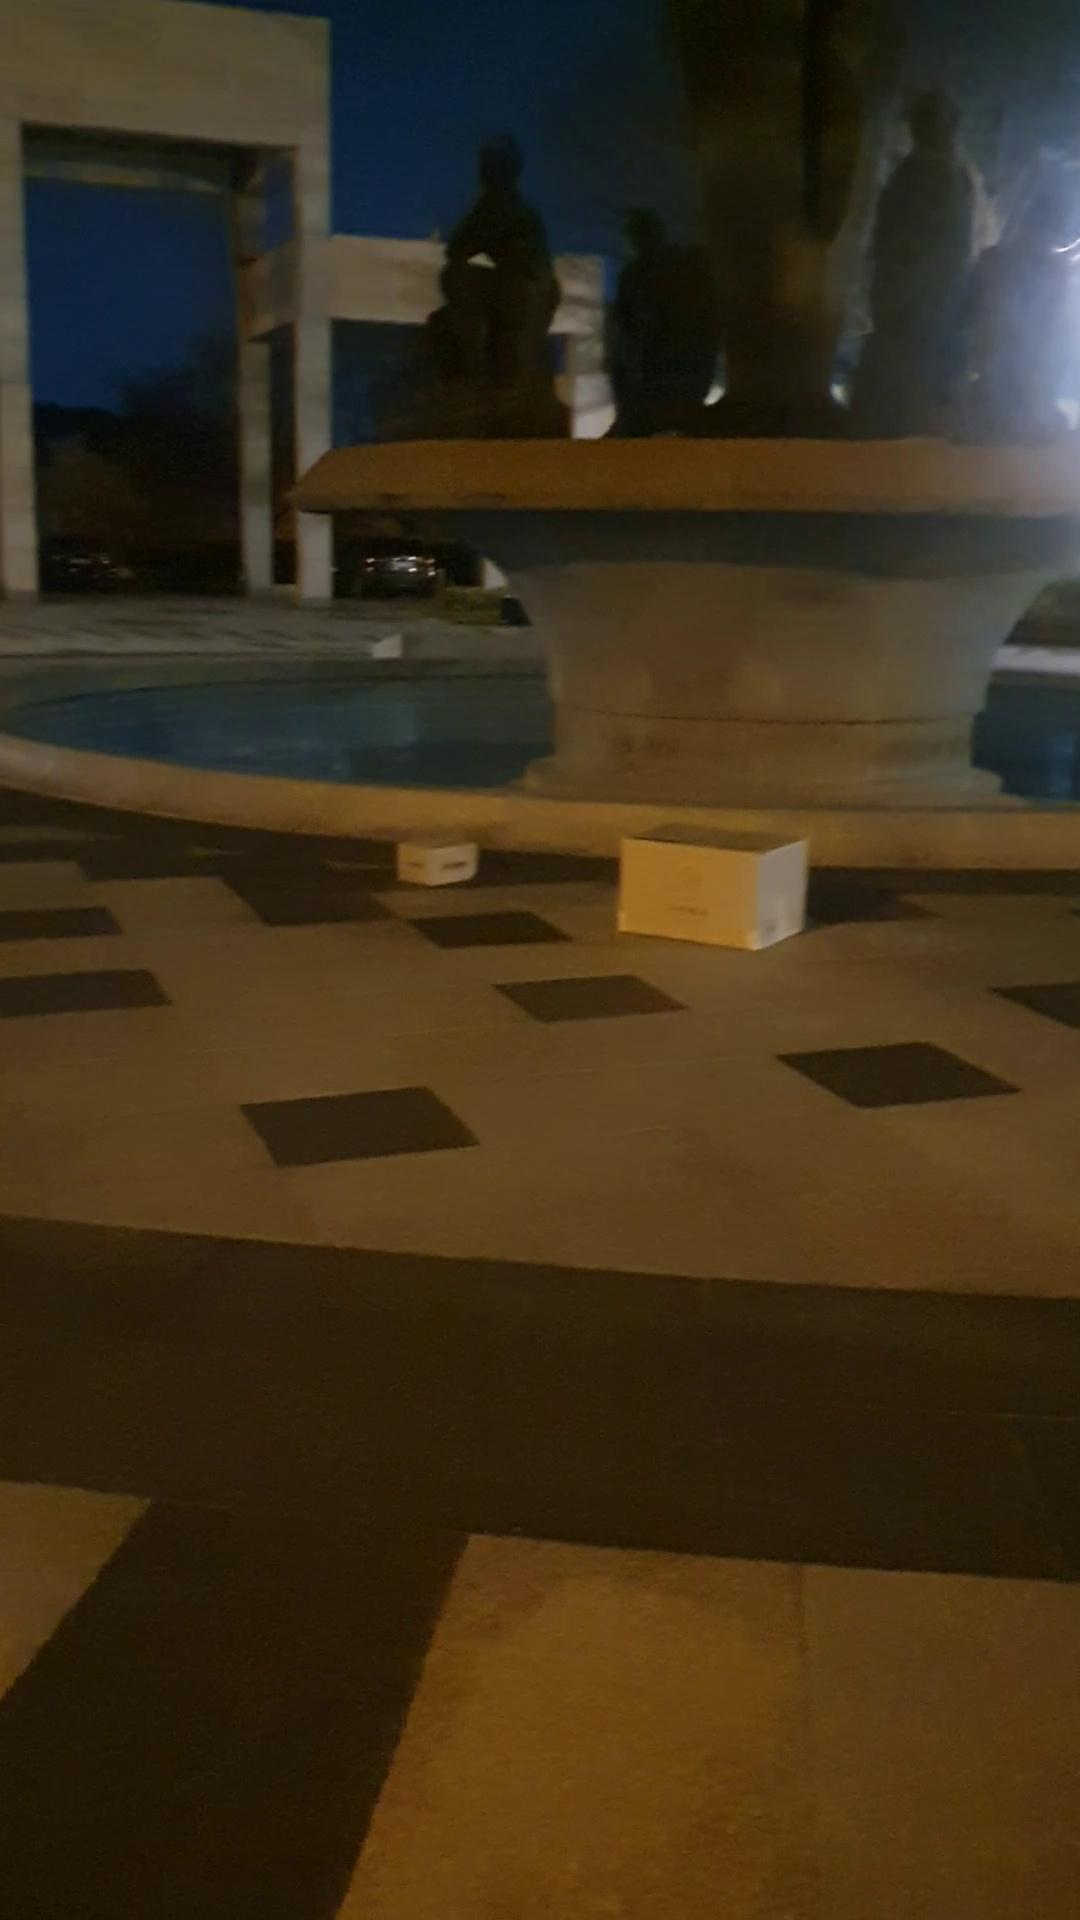Box: (597, 823, 827, 953), (386, 808, 530, 903)
